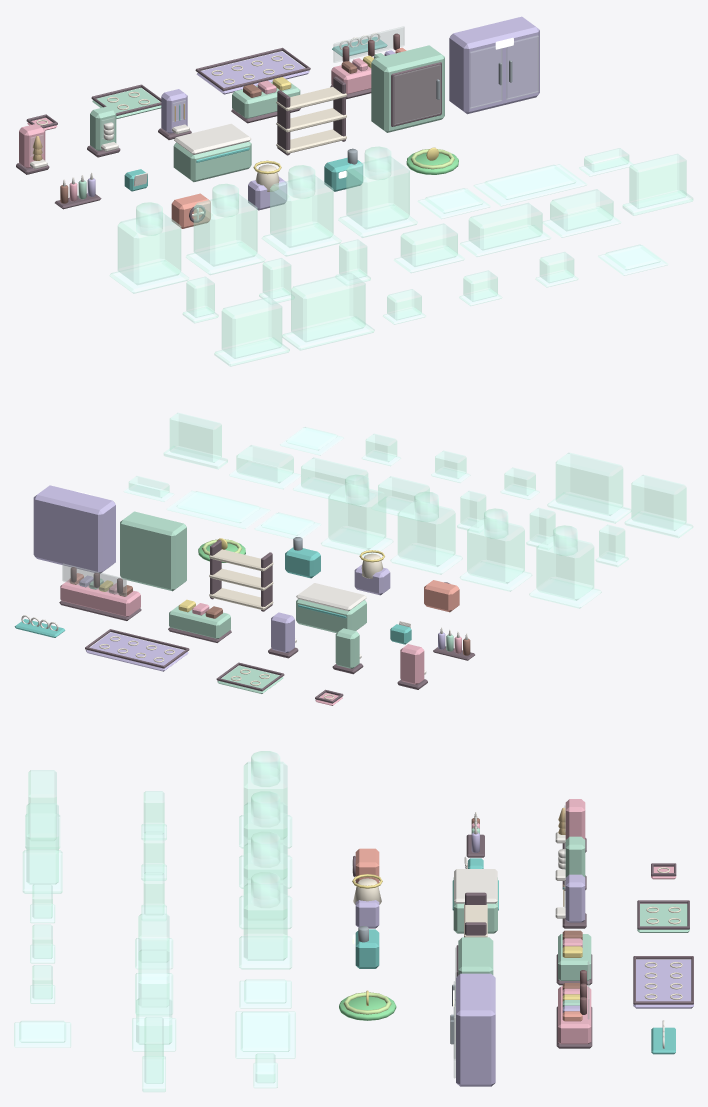
The model's file is trays_support_all.glb.
3 renders of one model, top to bottom at view 1: azimuth 30°, elevation 25°; view 2: azimuth 150°, elevation 25°; view 3: azimuth 270°, elevation 25°, orthographic. The views are drawn at different scales.
Parts seen in each view (by area): view 1: PremiumFreezer_Body, Ghost_SupportPremiumFreezer_Silhouette, Ghost_MachineVanilla_Silhouette, Ghost_MachineChocolate_Silhouette, Ghost_MachineMint_Silhouette, Ghost_MachineStrawberry_Silhouette, Ghost_SupportImprovedRefrigeratedStorage_Silhouette, Refrigerated_Body, Refrigerated_Inner, Ghost_SupportStarterStorageShelf_Silhouette, Ghost_SupportDeluxeToppingStation_Silhouette, Ghost_TrayEightOrder_Base (+53 smaller); view 2: PremiumFreezer_Body, Refrigerated_Body, Ghost_SupportPremiumFreezer_Silhouette, Ghost_MachineMint_Silhouette, Ghost_MachineVanilla_Silhouette, Ghost_MachineStrawberry_Silhouette, Ghost_MachineChocolate_Silhouette, Ghost_SupportImprovedRefrigeratedStorage_Silhouette, Ghost_SupportStarterStorageShelf_Silhouette, Ghost_TrayEightOrder_Base, Tray_8_Order_Base, Ghost_SupportDeluxeToppingStation_Silhouette (+46 smaller); view 3: PremiumFreezer_Body, Ghost_MachineMint_Silhouette, Ghost_TrayEightOrder_Base, Ghost_MachineStrawberry_Silhouette, Ghost_SupportPremiumFreezer_Silhouette, Tray_8_Order_Base, Ghost_MachineChocolate_Silhouette, Ghost_MachineVanilla_Silhouette, Ghost_TrayEightOrder_Silhouette, Ghost_MachineMint_Base, Ghost_SupportDeluxeToppingStation_Silhouette, Ghost_SupportPremiumFreezer_Base (+41 smaller).
Part boxes in pixels (x1=…): PremiumFreezer_Body: x1=449, y1=16, x2=539, y2=114; Ghost_SupportPremiumFreezer_Silhouette: x1=291, y1=272, x2=365, y2=342; Ghost_MachineVanilla_Silhouette: x1=117, y1=212, x2=181, y2=285; Ghost_MachineChocolate_Silhouette: x1=193, y1=193, x2=257, y2=266; Ghost_MachineMint_Silhouette: x1=346, y1=156, x2=409, y2=229; Ghost_MachineStrawberry_Silhouette: x1=270, y1=175, x2=333, y2=247; Ghost_SupportImprovedRefrigeratedStorage_Silhouette: x1=221, y1=297, x2=282, y2=358; Refrigerated_Body: x1=371, y1=45, x2=444, y2=132; Refrigerated_Inner: x1=391, y1=62, x2=441, y2=126; Ghost_SupportStarterStorageShelf_Silhouette: x1=629, y1=153, x2=686, y2=208; Ghost_SupportDeluxeToppingStation_Silhouette: x1=468, y1=202, x2=542, y2=250; Ghost_TrayEightOrder_Base: x1=473, y1=164, x2=587, y2=206; PremiumFreezer_Body: x1=33, y1=485, x2=115, y2=573; Refrigerated_Body: x1=120, y1=511, x2=186, y2=591; Ghost_SupportPremiumFreezer_Silhouette: x1=555, y1=452, x2=623, y2=515; Ghost_MachineMint_Silhouette: x1=328, y1=483, x2=386, y2=549; Ghost_MachineVanilla_Silhouette: x1=536, y1=534, x2=594, y2=600; Ghost_MachineStrawberry_Silhouette: x1=397, y1=500, x2=455, y2=566; Ghost_MachineChocolate_Silhouette: x1=467, y1=517, x2=524, y2=583; Ghost_SupportImprovedRefrigeratedStorage_Silhouette: x1=631, y1=474, x2=686, y2=531; Ghost_SupportStarterStorageShelf_Silhouette: x1=169, y1=412, x2=221, y2=462; Ghost_TrayEightOrder_Base: x1=167, y1=490, x2=270, y2=528; Tray_8_Order_Base: x1=86, y1=632, x2=188, y2=671; Ghost_SupportDeluxeToppingStation_Silhouette: x1=301, y1=457, x2=368, y2=497; PremiumFreezer_Body: x1=456, y1=973, x2=495, y2=1086; Ghost_MachineMint_Silhouette: x1=243, y1=883, x2=287, y2=960; Ghost_TrayEightOrder_Base: x1=235, y1=1011, x2=295, y2=1058; Ghost_MachineStrawberry_Silhouette: x1=243, y1=842, x2=287, y2=920; Ghost_SupportPremiumFreezer_Silhouette: x1=26, y1=803, x2=58, y2=884; Tray_8_Order_Base: x1=633, y1=959, x2=693, y2=1008; Ghost_MachineChocolate_Silhouette: x1=243, y1=802, x2=287, y2=879; Ghost_MachineVanilla_Silhouette: x1=243, y1=761, x2=287, y2=839; Ghost_TrayEightOrder_Silhouette: x1=240, y1=1011, x2=290, y2=1051; Ghost_MachineMint_Base: x1=239, y1=936, x2=292, y2=969; Ghost_SupportDeluxeToppingStation_Silhouette: x1=138, y1=949, x2=169, y2=1006; Ghost_SupportPremiumFreezer_Base: x1=22, y1=850, x2=62, y2=893.
Size of the model in its own units: 20.4 by 2.9 by 21.35.
